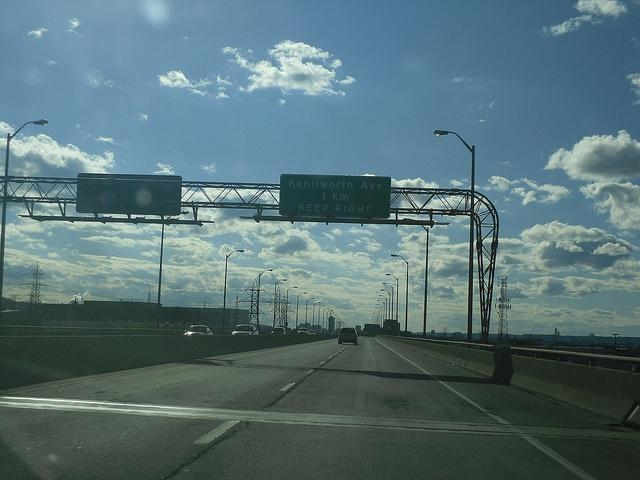car: (182, 324, 214, 335), (230, 324, 260, 335), (271, 327, 286, 334), (298, 328, 310, 335), (330, 330, 340, 338), (307, 330, 316, 335), (364, 332, 370, 336)
truck: (338, 325, 358, 345)
